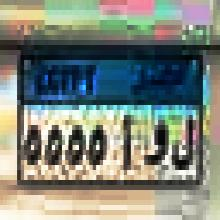5: (87, 116, 109, 170), (66, 120, 84, 169), (45, 121, 63, 167), (25, 122, 40, 164)
alif: (117, 115, 136, 170)
laam: (172, 113, 197, 171)
waw: (142, 120, 169, 168)
